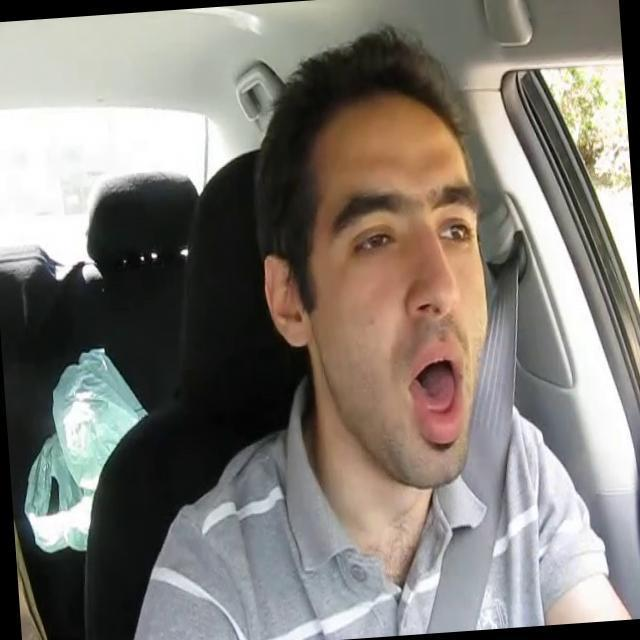open-mouth: (408, 345, 467, 430)
